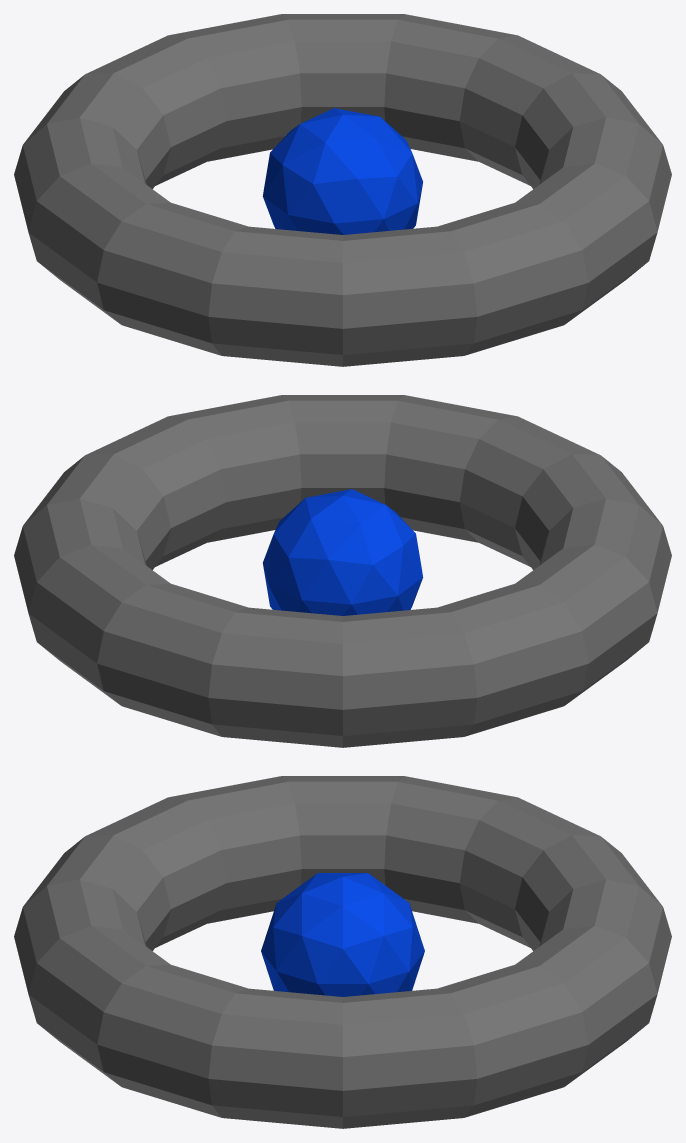
The model's file is spirit.gltf.
3 views of the same model, one above another, from view 1: azimuth 30°, elevation 25°; view 2: azimuth 150°, elevation 25°; view 3: azimuth 270°, elevation 25° (orthographic).
Parts seen in each view (by area): view 1: Torus; view 2: Torus; view 3: Torus.
Boxes of the visible parts, x1,y1,x2,y2 form: Torus: (14, 14, 671, 366); Torus: (14, 395, 671, 747); Torus: (14, 776, 671, 1128).
Size of the model in its own units: 2.47 by 0.62 by 2.49.
